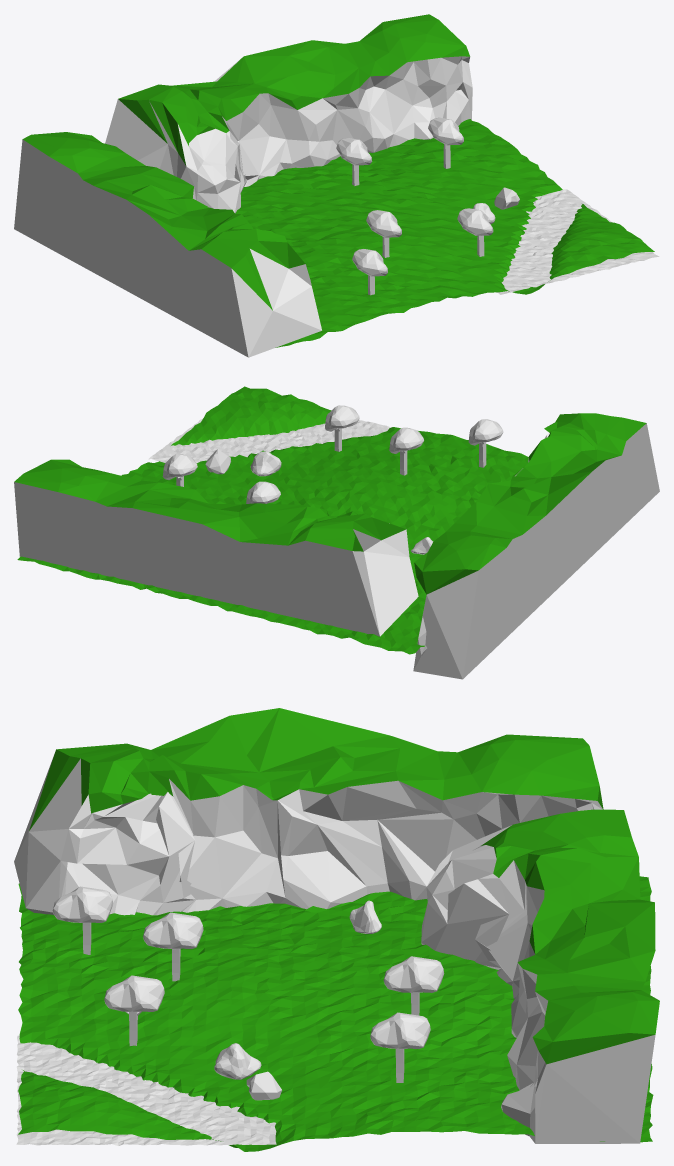
File: ForestScene_final_1.fbx
3 renders of one model, top to bottom at view 1: azimuth 30°, elevation 25°; view 2: azimuth 150°, elevation 25°; view 3: azimuth 270°, elevation 25°, orthographic. The views are drawn at different scales.
Visible parts, largest first — view 1: Plane, Cube, Cube.001, Plane.001, Cube.007, Cube.009, Cube.005; view 2: Cube, Cube.001, Plane, Plane.001, Cube.007, Cube.005, Cube.009; view 3: Plane, Cube.001, Cube, Plane.001, Cube.007, Cube.005, Cube.009.
Boxes of the visible parts, <box> form: Plane: <box>235,119,654,347</box>; Cube: <box>105,14,472,213</box>; Cube.001: <box>14,132,321,357</box>; Plane.001: <box>496,189,659,294</box>; Cube.007: <box>336,117,493,276</box>; Cube.009: <box>352,144,484,295</box>; Cube.005: <box>472,187,519,224</box>; Cube: <box>14,459,418,636</box>; Cube.001: <box>413,413,659,679</box>; Plane: <box>17,386,528,654</box>; Plane.001: <box>148,418,390,463</box>; Cube.007: <box>162,405,503,503</box>; Cube.005: <box>205,449,433,554</box>; Cube.009: <box>176,428,486,486</box>; Plane: <box>18,876,653,1151</box>; Cube.001: <box>14,708,603,915</box>; Cube: <box>421,809,659,1143</box>; Plane.001: <box>16,1035,276,1145</box>; Cube.007: <box>52,886,444,1049</box>; Cube.005: <box>214,900,381,1100</box>; Cube.009: <box>82,922,419,1082</box>.
Size of the model in its own units: 6816 by 1846 by 6156.
